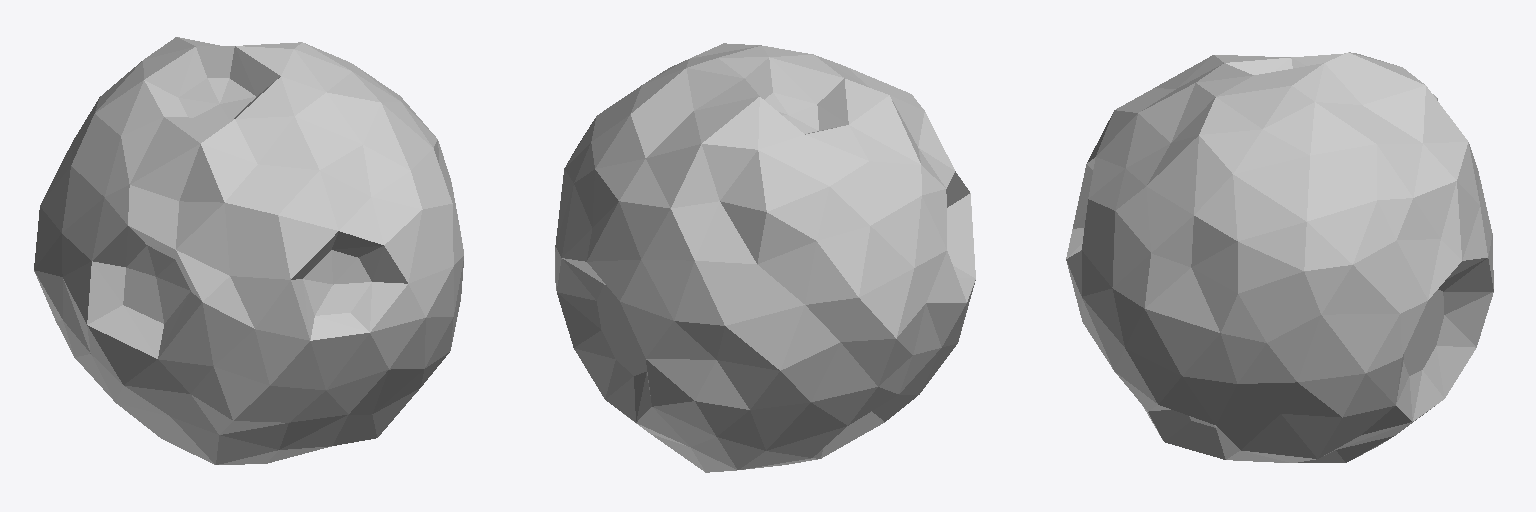
The model's file is moon.obj.
3 views of the same model, side by side, from view 1: azimuth 30°, elevation 25°; view 2: azimuth 150°, elevation 25°; view 3: azimuth 270°, elevation 25° (orthographic).
Parts seen in each view (by area): view 1: Moon; view 2: Moon; view 3: Moon.
Boxes of the visible parts, box(x1,y1,x2,y2) form: Moon: box(34, 37, 463, 464); Moon: box(555, 43, 975, 472); Moon: box(1066, 52, 1493, 462).
Size of the model in its own units: 0.5499 by 0.5527 by 0.554.